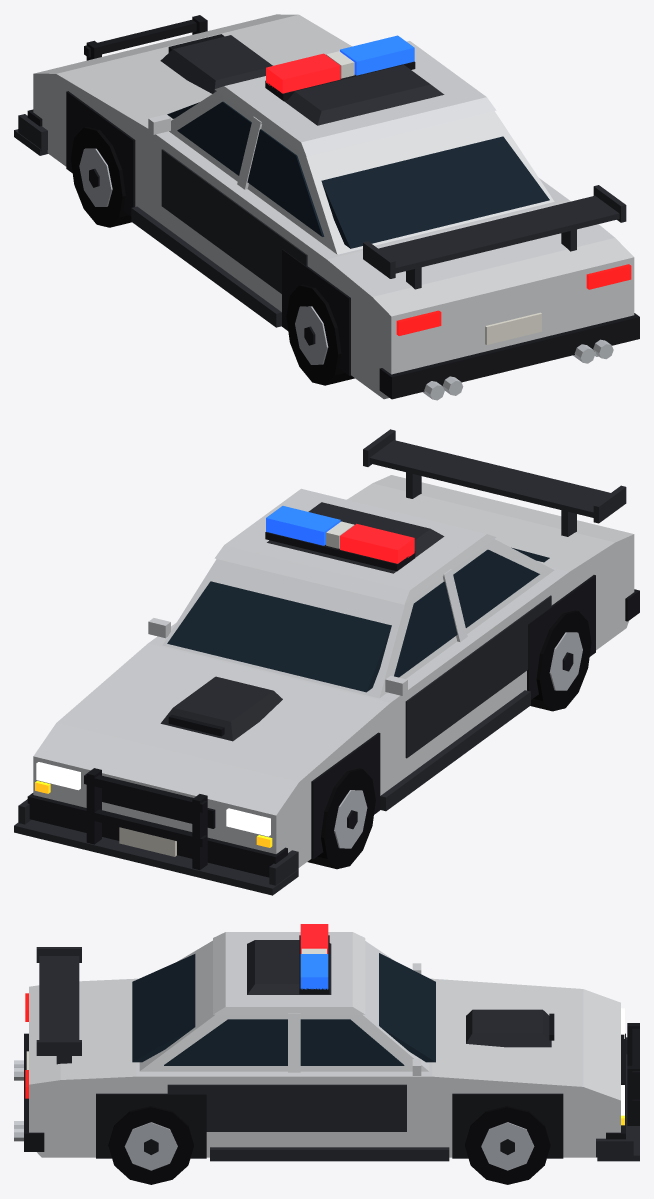
The model's file is car_police.glb.
The picture shows the model from 3 angles, top to bottom: view 1: azimuth 30°, elevation 25°; view 2: azimuth 150°, elevation 25°; view 3: azimuth 270°, elevation 25°; orthographic projection. The views are drawn at different scales.
Parts seen in each view (by area): view 1: car_police__body, car_police__mod_spoiler, car_police__mod_roof, car_police__wheel_rl, car_police__wheel_fl, car_police__mod_hood, car_police__mod_skirts, car_police__mod_exhaust, car_police__mod_bumper; view 2: car_police__body, car_police__mod_spoiler, car_police__mod_bumper, car_police__mod_hood, car_police__wheel_fl, car_police__wheel_rl, car_police__mod_skirts, car_police__mod_roof; view 3: car_police__body, car_police__wheel_rr, car_police__wheel_fr, car_police__mod_spoiler, car_police__mod_skirts, car_police__mod_hood, car_police__mod_roof, car_police__mod_bumper, car_police__mod_exhaust.
Part boxes in pixels (x1,y1,x2,y2): car_police__body: (27,14,639,399); car_police__mod_spoiler: (363,185,626,289); car_police__mod_roof: (284,65,444,125); car_police__wheel_rl: (286,284,354,385); car_police__wheel_fl: (70,127,131,227); car_police__mod_hood: (160,34,272,93); car_police__mod_skirts: (131,206,281,327); car_police__mod_exhaust: (422,339,613,400); car_police__mod_bumper: (14,114,47,155); car_police__body: (27,475,639,877); car_police__mod_spoiler: (363,429,626,536); car_police__mod_bumper: (14,799,298,895); car_police__mod_hood: (160,676,282,741); car_police__wheel_fl: (307,768,375,869); car_police__wheel_rl: (530,610,591,711); car_police__mod_skirts: (380,690,530,811); car_police__mod_roof: (267,502,444,573); car_police__body: (24,924,639,1158); car_police__wheel_rr: (108,1106,193,1184); car_police__wheel_fr: (465,1106,550,1184); car_police__mod_spoiler: (36,947,81,1064); car_police__mod_skirts: (210,1147,449,1161); car_police__mod_hood: (466,1009,554,1047); car_police__mod_roof: (247,940,331,994); car_police__mod_bumper: (596,1037,639,1161); car_police__mod_exhaust: (14,1060,23,1141).
Bounding box in the file's own units: 1.97 × 1.6 × 4.97.
